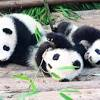panda: (14, 31, 81, 82)
